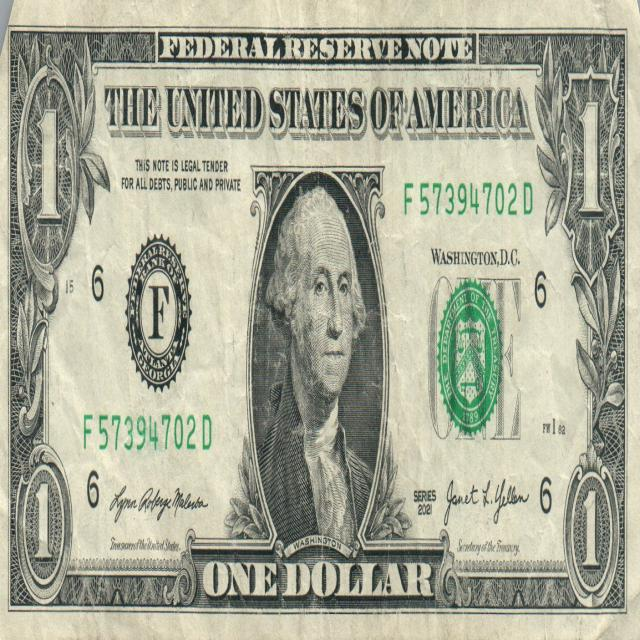SerialNumber: (84, 415, 211, 451), (404, 183, 532, 215)
